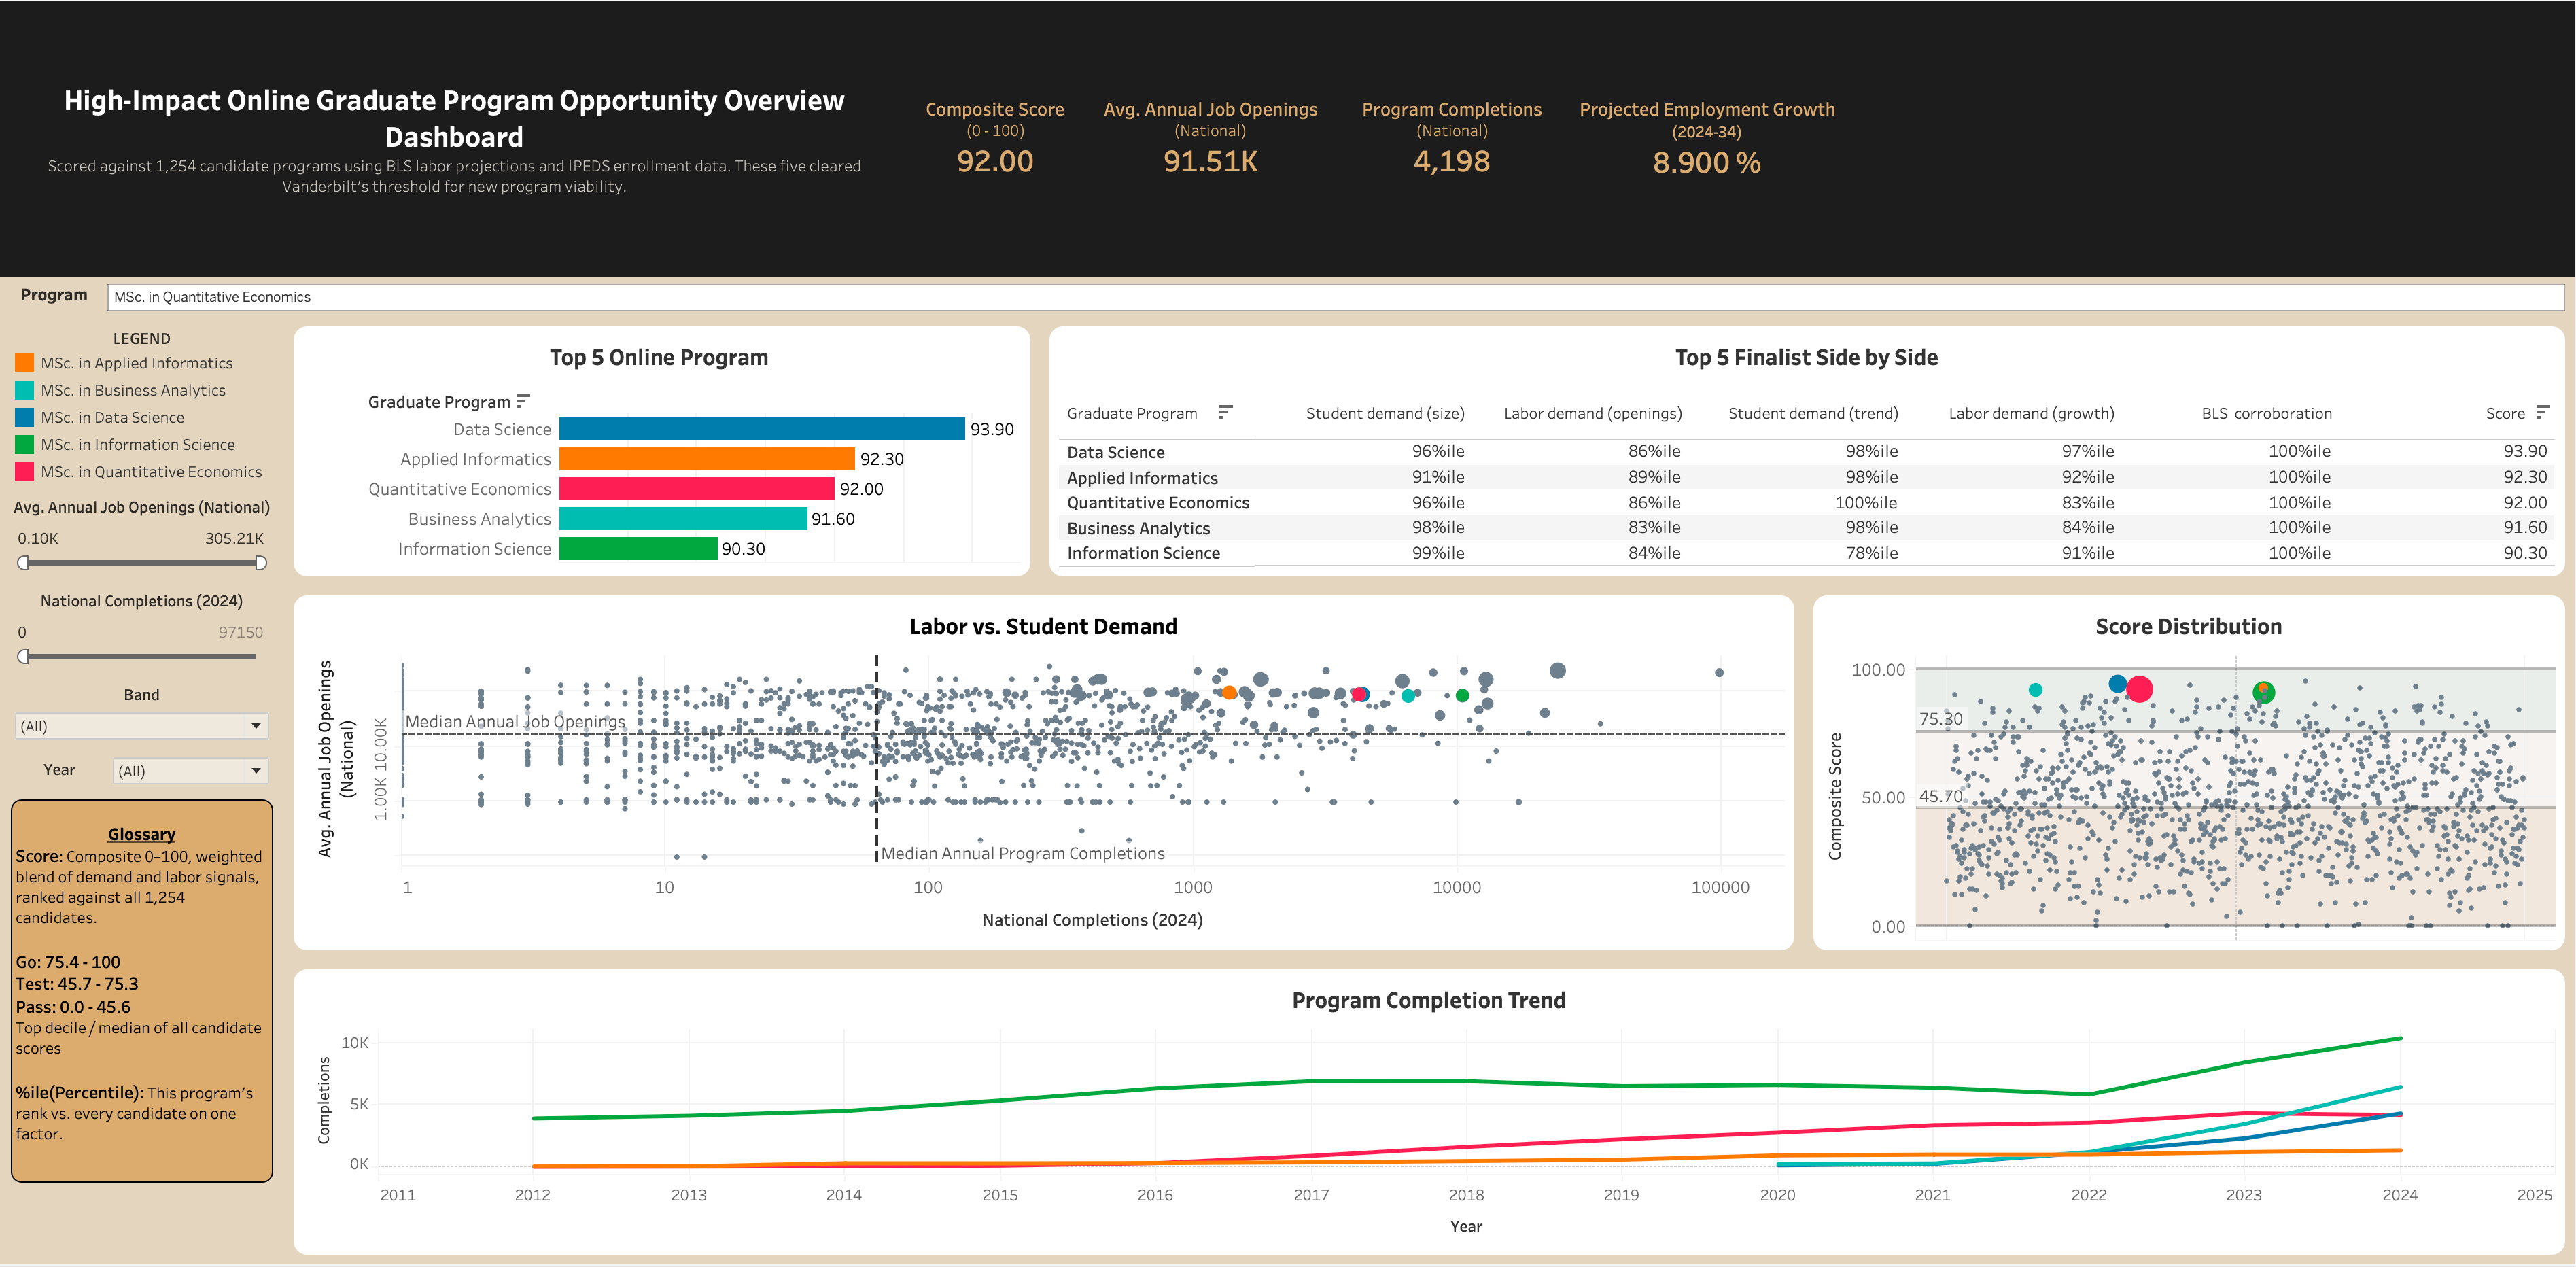

The dashboard page shown, as its layout file describes it:
{"tool":"tableau","page":{"name":"Program_Overview_Dashboard","canvas":[1366,840],"ordinal":0},"visuals":[{"type":"text","box":[0,0,669,114]},{"type":"worksheet","title":"KPI_Score","mark":"Automatic","box":[669,0,128,114]},{"type":"worksheet","title":"KPI_Openings","mark":"Automatic","box":[797,0,188,114]},{"type":"worksheet","title":"KPI_Completions","mark":"Automatic","box":[985,0,168,114]},{"type":"worksheet","title":"KPI_Growth","mark":"Automatic","box":[1153,0,207,114]},{"type":"parameter","param":"[Parameters].[Parameter 6527490844442624]","box":[0,114,1366,29]},{"type":"worksheet","title":"1_Composite_Score_Rank","mark":"Automatic","rows":["proposed_name"],"cols":["score"],"box":[209,143,556,198]},{"type":"worksheet","title":"5_Finalist_Comparision","mark":"Automatic","rows":["proposed_name"],"box":[765,143,600.9,198]},{"type":"legend","title":"4_Program_Completion_Trends","param":"[federated.1arn81v10ab6cw1bl6ht70n0zl4m].[none:proposed_name:nk]","box":[4,147,201,124]},{"type":"filter","title":"2_Scatter_Labor_Demand","param":"[federated.0xvmx9v1o8f5hx130js1214drq1i].[sum:employment_weighted_openings:qk]","box":[4,271,201,69]},{"type":"filter","title":"2_Scatter_Labor_Demand","param":"[federated.0xvmx9v1o8f5hx130js1214drq1i].[none:completions_latest_year:qk]","box":[4,340,201,69]},{"type":"worksheet","title":"2_Scatter_Labor_Demand","mark":"Automatic","rows":["employment_weighted_openings"],"cols":["completions_latest_year"],"box":[209,341,590,275]},{"type":"worksheet","title":"3_Score_Distribution","mark":"Circle","rows":["score"],"box":[799,341,567,275]},{"type":"filter","title":"2_Scatter_Labor_Demand","param":"[federated.0xvmx9v1o8f5hx130js1214drq1i].[none:band:nk]","box":[4,409,201,52]},{"type":"filter","title":"4_Program_Completion_Trends","param":"[federated.1arn81v10ab6cw1bl6ht70n0zl4m].[none:year:ok]","box":[4,461,201,33]},{"type":"text","box":[4,494,201,290]},{"type":"worksheet","title":"4_Program_Completion_Trends","mark":"Automatic","rows":["completions"],"cols":["year"],"box":[209,616,1157,224]}]}

Visuals, with their boxes on the page's 1366x840 design canvas (x1, y1, x2, y2). These are canvas units, not pixel positions in the 2576x1267 screenshot, which may show the page scaled, cropped or inside an application window:
text: [x1=0, y1=0, x2=669, y2=114]
"KPI_Score" worksheet: [x1=669, y1=0, x2=797, y2=114]
"KPI_Openings" worksheet: [x1=797, y1=0, x2=985, y2=114]
"KPI_Completions" worksheet: [x1=985, y1=0, x2=1153, y2=114]
"KPI_Growth" worksheet: [x1=1153, y1=0, x2=1360, y2=114]
parameter: [x1=0, y1=114, x2=1366, y2=143]
"1_Composite_Score_Rank" worksheet: [x1=209, y1=143, x2=765, y2=341]
"5_Finalist_Comparision" worksheet: [x1=765, y1=143, x2=1366, y2=341]
"4_Program_Completion_Trends" legend: [x1=4, y1=147, x2=205, y2=271]
"2_Scatter_Labor_Demand" filter: [x1=4, y1=271, x2=205, y2=340]
"2_Scatter_Labor_Demand" filter: [x1=4, y1=340, x2=205, y2=409]
"2_Scatter_Labor_Demand" worksheet: [x1=209, y1=341, x2=799, y2=616]
"3_Score_Distribution" worksheet (Circle marks): [x1=799, y1=341, x2=1366, y2=616]
"2_Scatter_Labor_Demand" filter: [x1=4, y1=409, x2=205, y2=461]
"4_Program_Completion_Trends" filter: [x1=4, y1=461, x2=205, y2=494]
text: [x1=4, y1=494, x2=205, y2=784]
"4_Program_Completion_Trends" worksheet: [x1=209, y1=616, x2=1366, y2=840]
